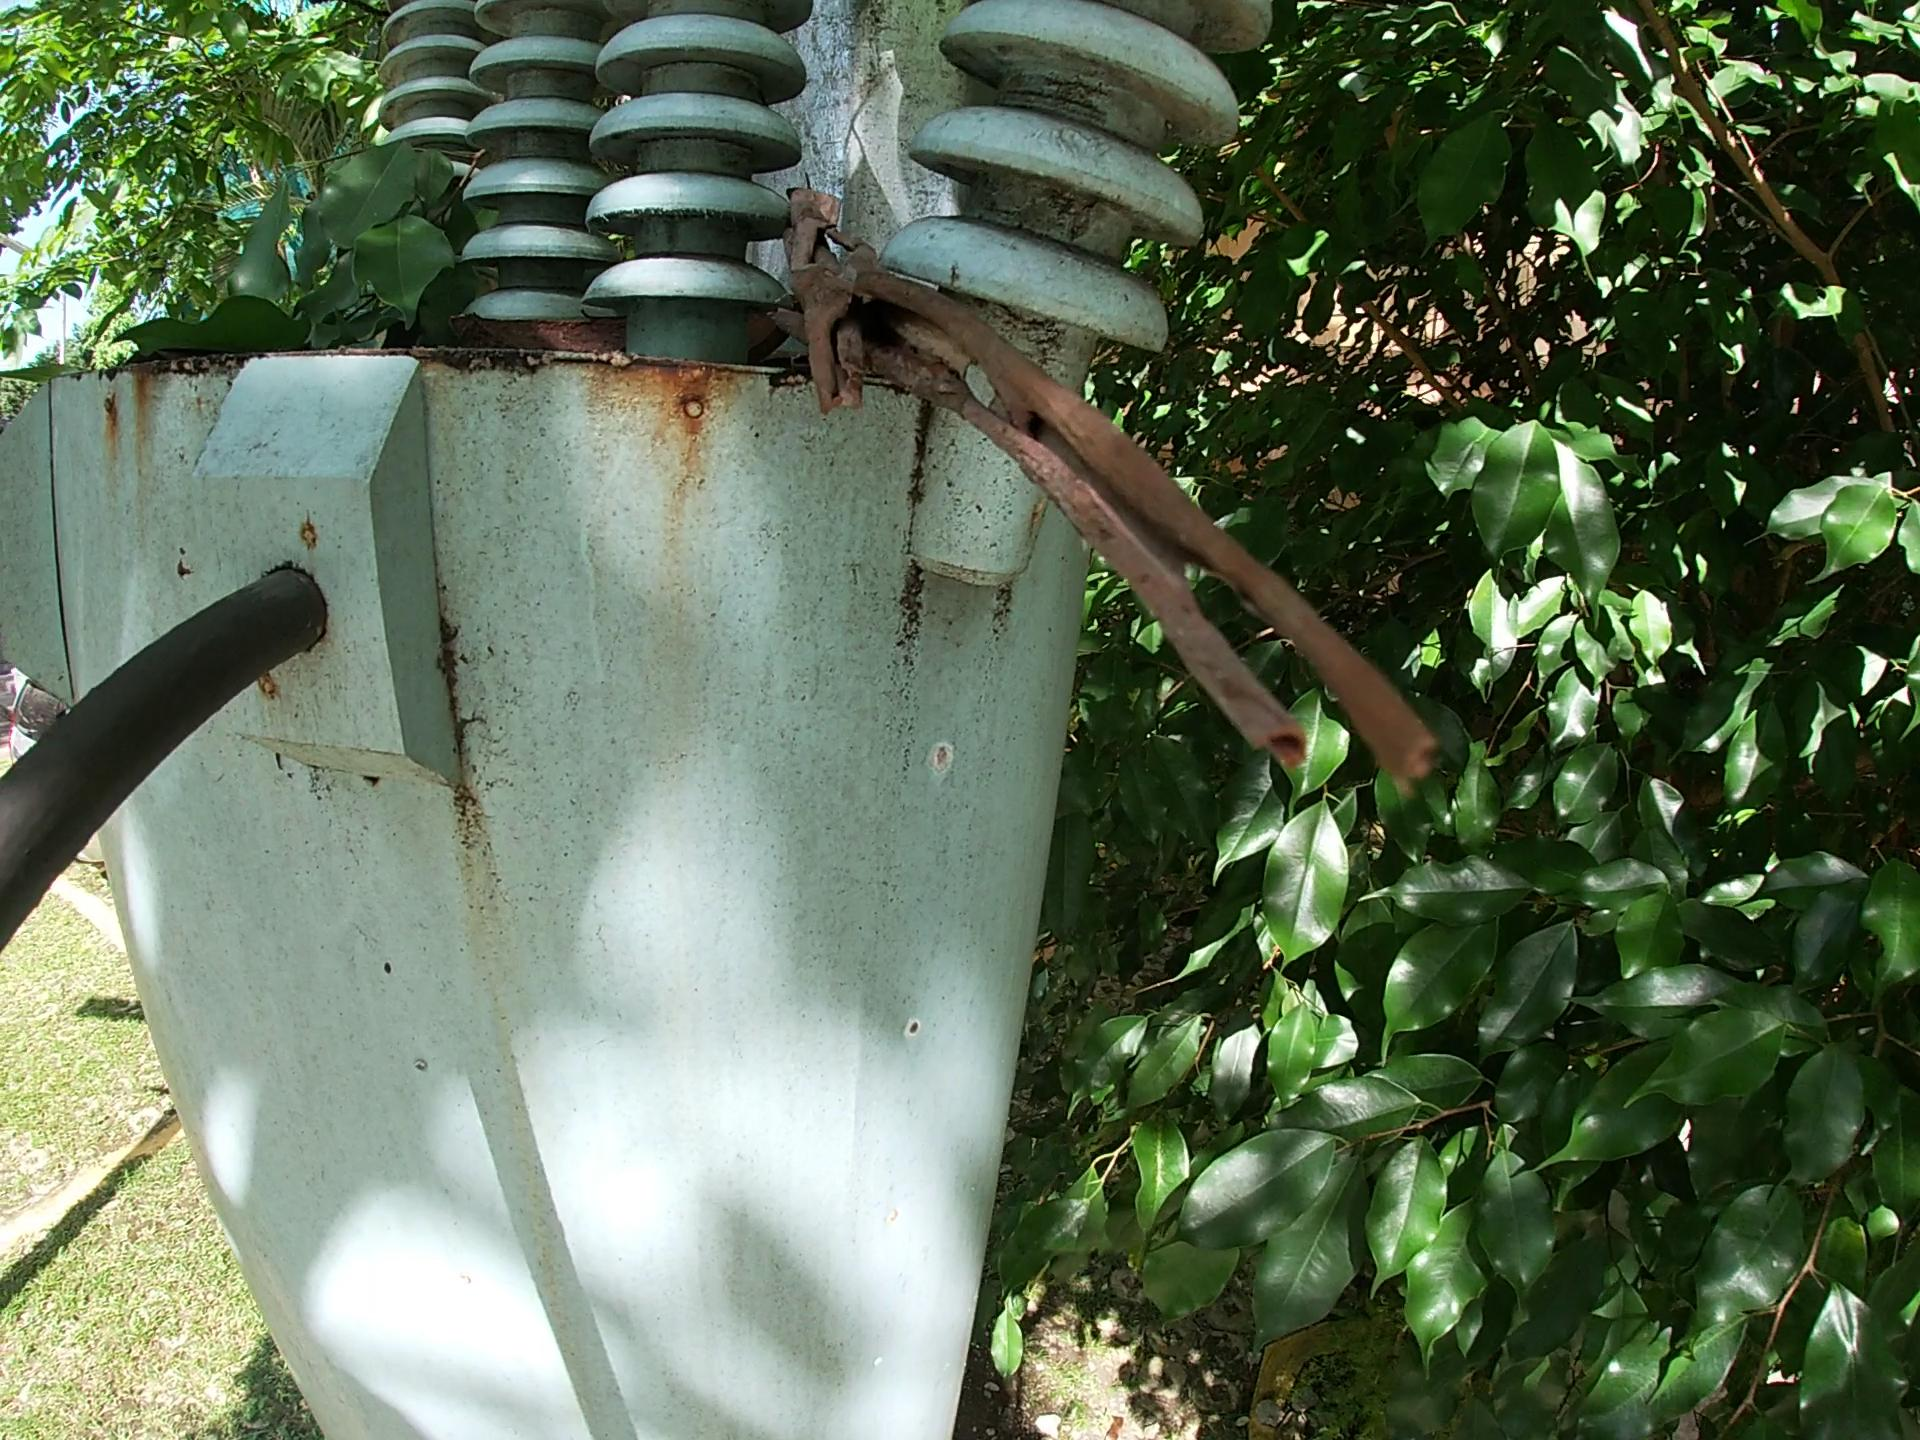branch with leaves: (33, 113, 494, 352)
mahogany fruit: (526, 312, 646, 355)
tree branch: (774, 185, 1471, 799)
